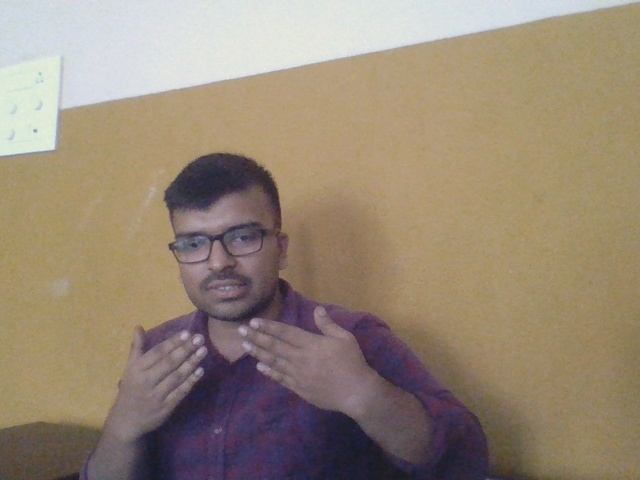Thank You: (90, 298, 394, 442)
